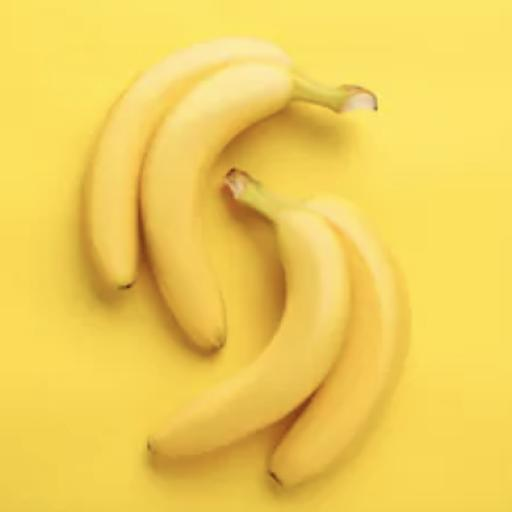banana: (141, 64, 375, 350), (149, 172, 350, 457), (85, 38, 291, 289), (270, 197, 409, 486)
